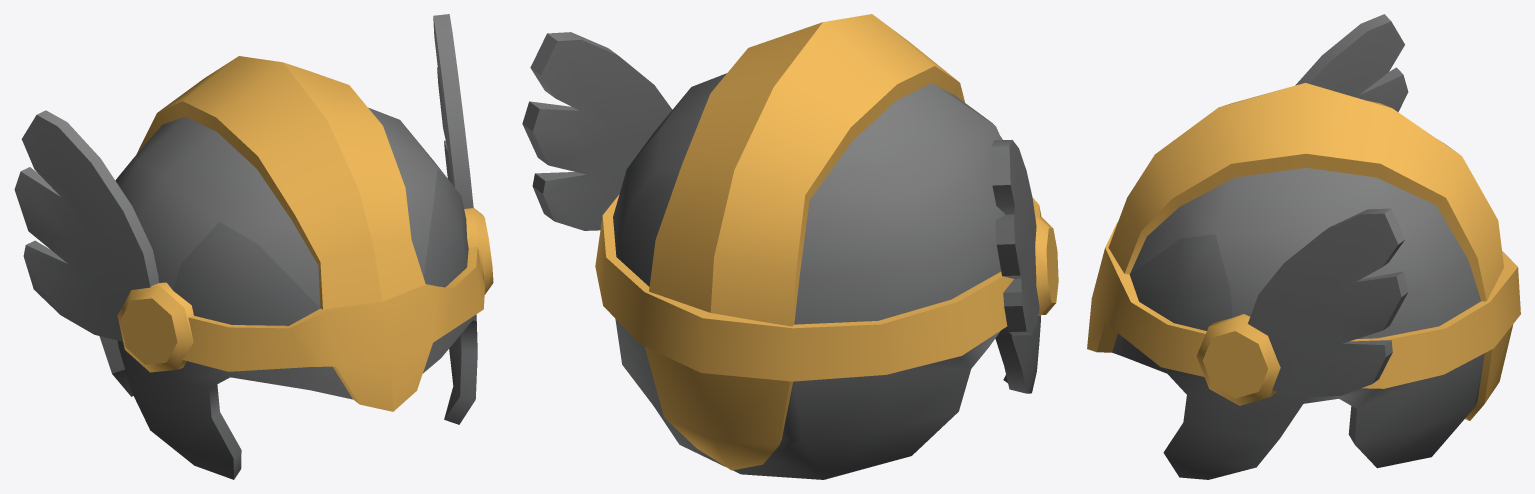
Rendered from Headgear_2.fbx.
3 views of the same model, side by side, from view 1: azimuth 30°, elevation 25°; view 2: azimuth 150°, elevation 25°; view 3: azimuth 270°, elevation 25° (orthographic). The views are drawn at different scales.
Parts seen in each view (by area): view 1: Headgear_2; view 2: Headgear_2; view 3: Headgear_2.
Part boxes in pixels (<box>): Headgear_2: <box>14,14,493,479</box>; Headgear_2: <box>522,14,1058,479</box>; Headgear_2: <box>1087,14,1520,479</box>.
Size of the model in its own units: 84.65 by 64.39 by 72.99.
